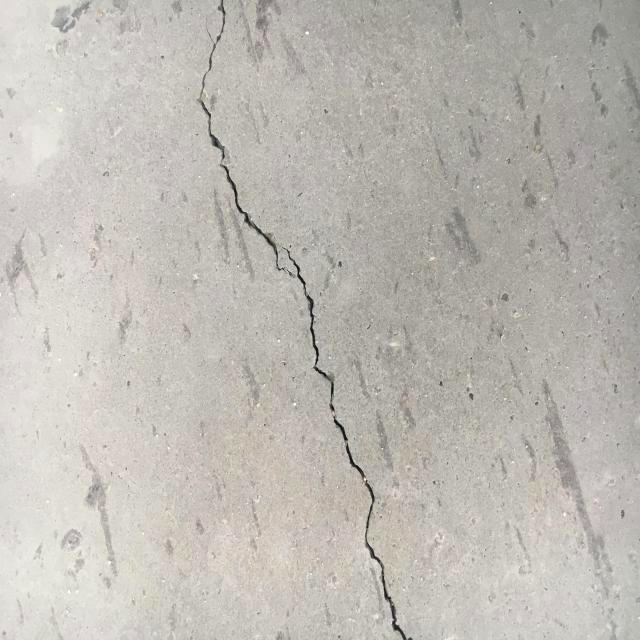SurfaceCrack: (173, 1, 434, 640)
